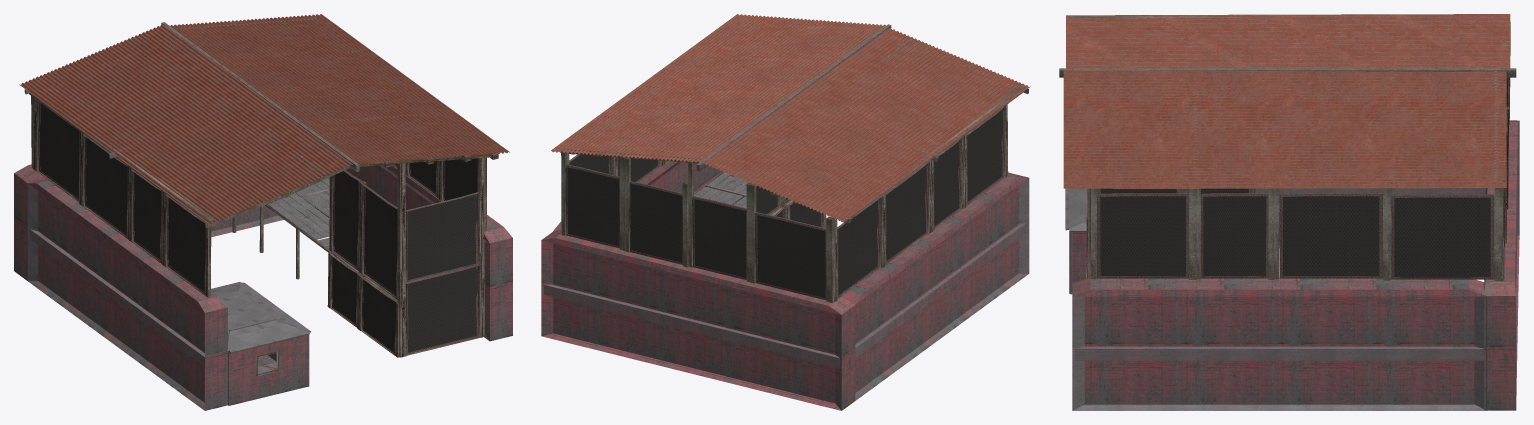
File: huge barn.fbx
3 renders of one model, left to right at view 1: azimuth 30°, elevation 25°; view 2: azimuth 150°, elevation 25°; view 3: azimuth 270°, elevation 25°, orthographic. The views are drawn at different scales.
Parts seen in each view (by area): view 1: Group1; view 2: Group1; view 3: Group1.
Part boxes in pixels (bbox=[...]): Group1: bbox=[14, 14, 512, 410]; Group1: bbox=[541, 14, 1030, 410]; Group1: bbox=[1059, 14, 1519, 410].
Size of the model in its own units: 799 by 531 by 880.
